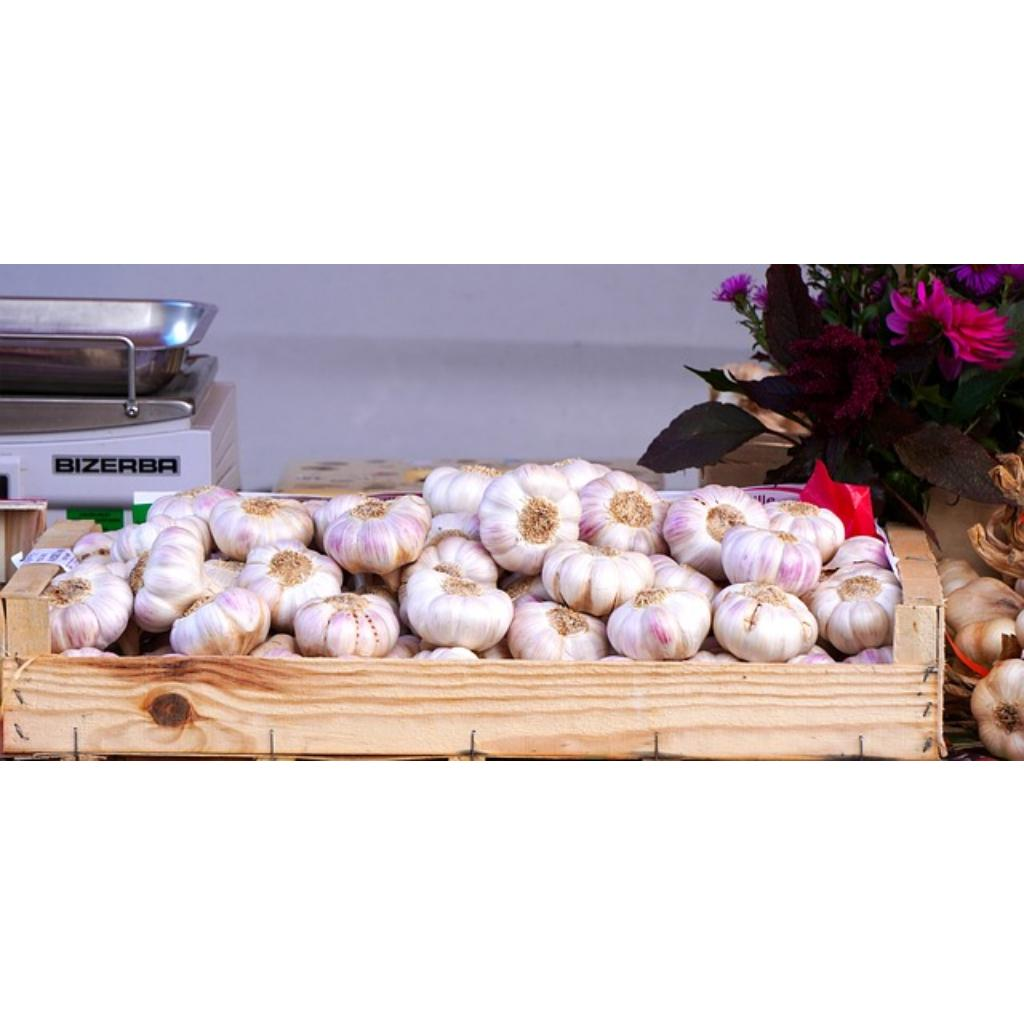garlic: (478, 463, 582, 574), (662, 485, 770, 580), (238, 539, 342, 632), (406, 569, 514, 650), (132, 527, 214, 632), (712, 581, 818, 661), (324, 495, 430, 574), (544, 541, 654, 616), (810, 569, 902, 654), (46, 563, 132, 652), (606, 589, 710, 660), (582, 471, 668, 554), (722, 525, 822, 594), (170, 587, 270, 654), (294, 593, 400, 656), (210, 497, 314, 559), (506, 601, 610, 660), (422, 465, 502, 514)
